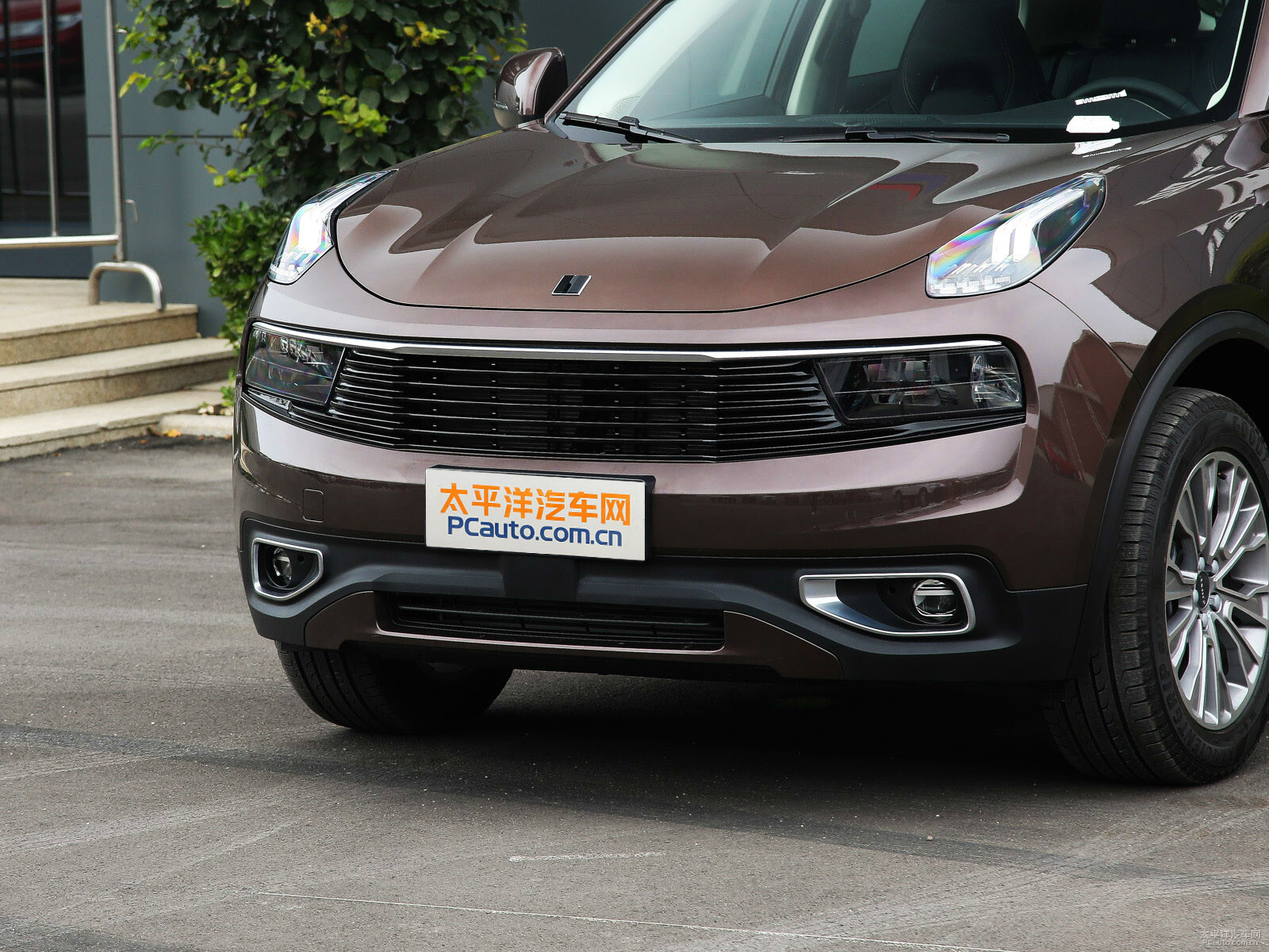LINK&CO: (552, 274, 589, 294)
